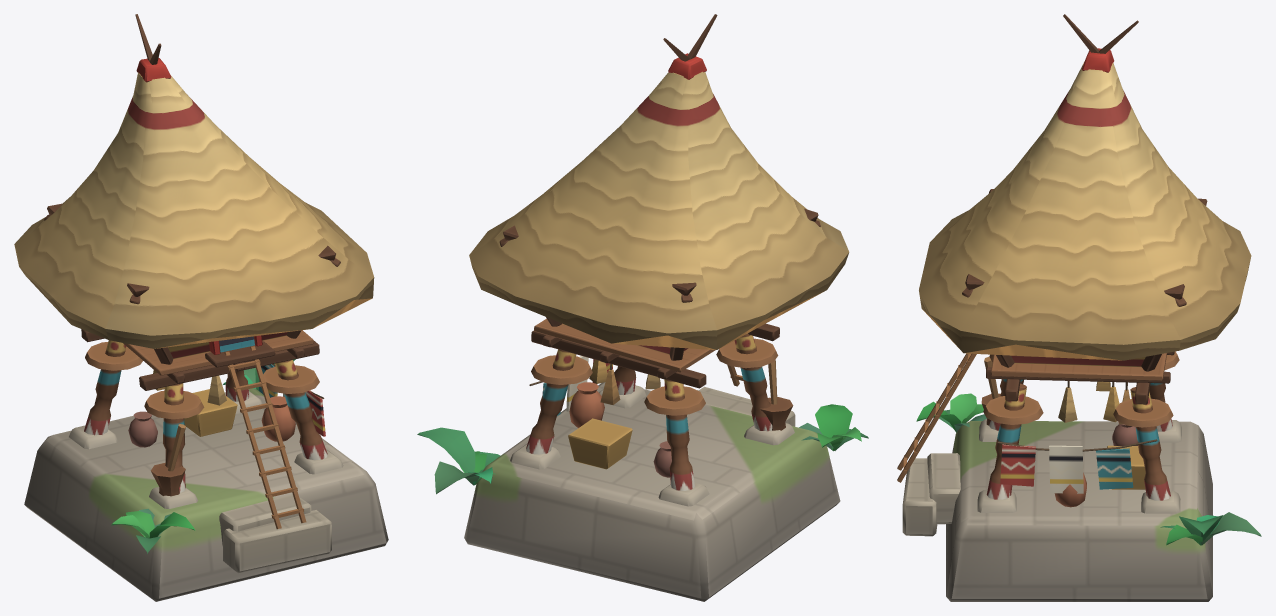
File: house_granary.glb
3 renders of one model, left to right at view 1: azimuth 30°, elevation 25°; view 2: azimuth 150°, elevation 25°; view 3: azimuth 270°, elevation 25°, orthographic. The views are drawn at different scales.
Visible parts, largest first — view 1: house_granary; view 2: house_granary; view 3: house_granary.
Part boxes in pixels (<box>): house_granary: <box>14,14,388,601</box>; house_granary: <box>417,14,868,601</box>; house_granary: <box>897,14,1261,601</box>.
Size of the model in its own units: 8.91 by 13.27 by 8.69.
Materials: 1 (1 with a texture image).
